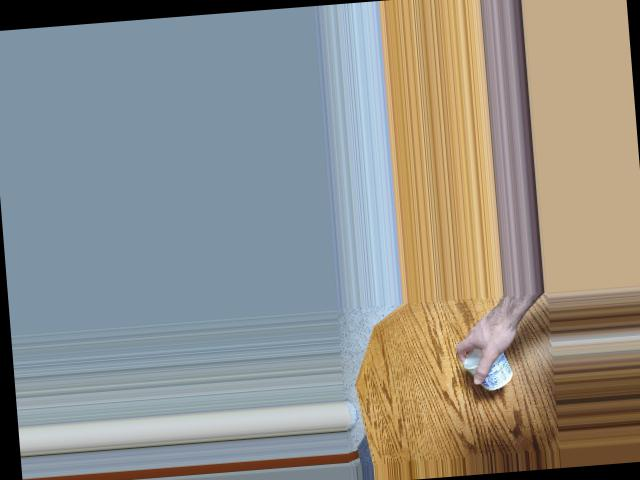cotage: (460, 347, 509, 391)
